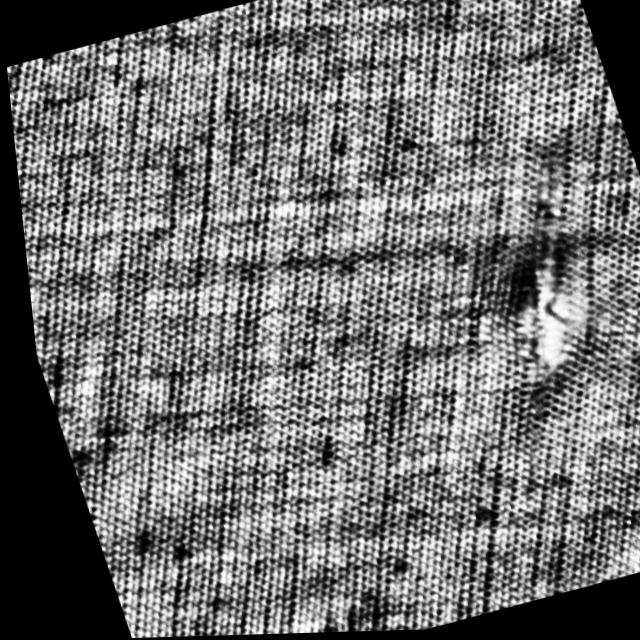Stitch: (450, 224, 627, 416)
